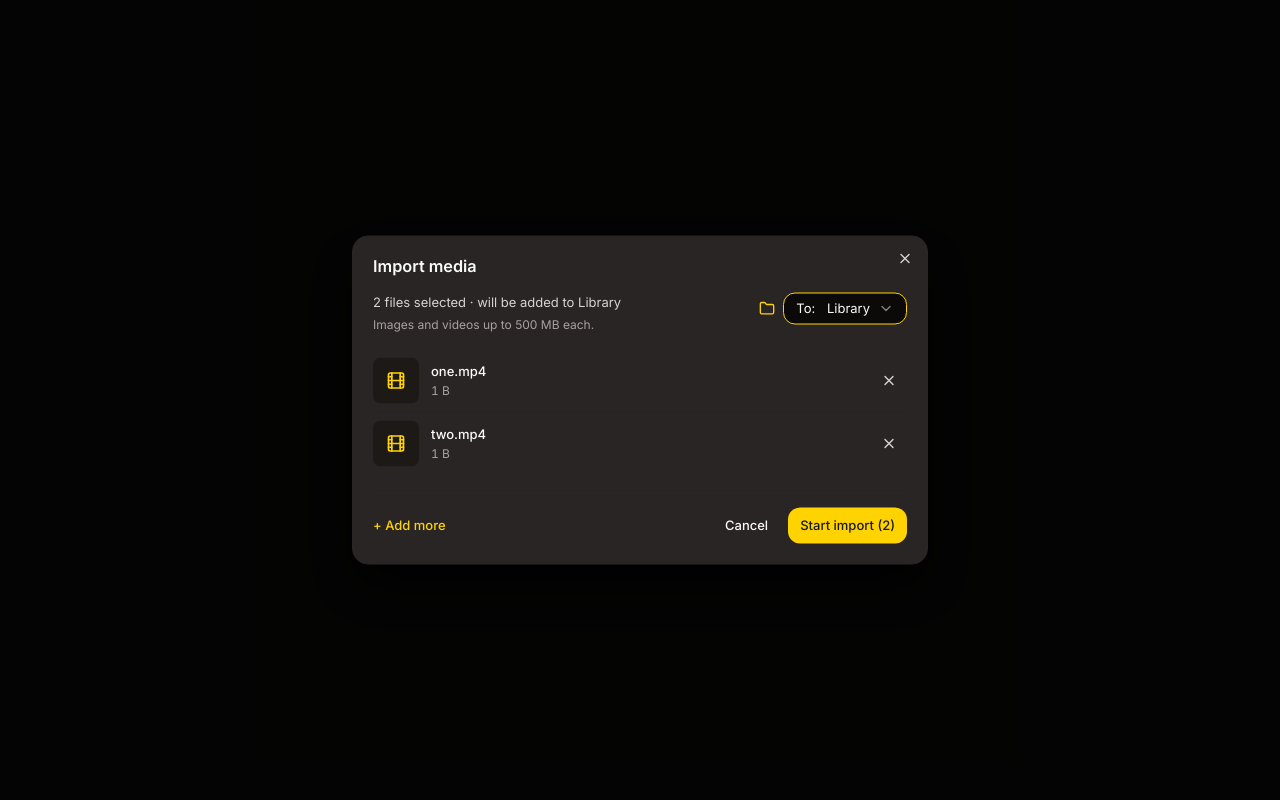
Test case: MediaImportModal — staging (Spec 072 behaviours, PB-2/PB-12) › per-row remove drops the file and updates the count
The width and height of the screenshot is (1280, 800).
Click the button named "Remove one.mp4" at (889, 380), box left=871, top=362, right=907, bottom=398
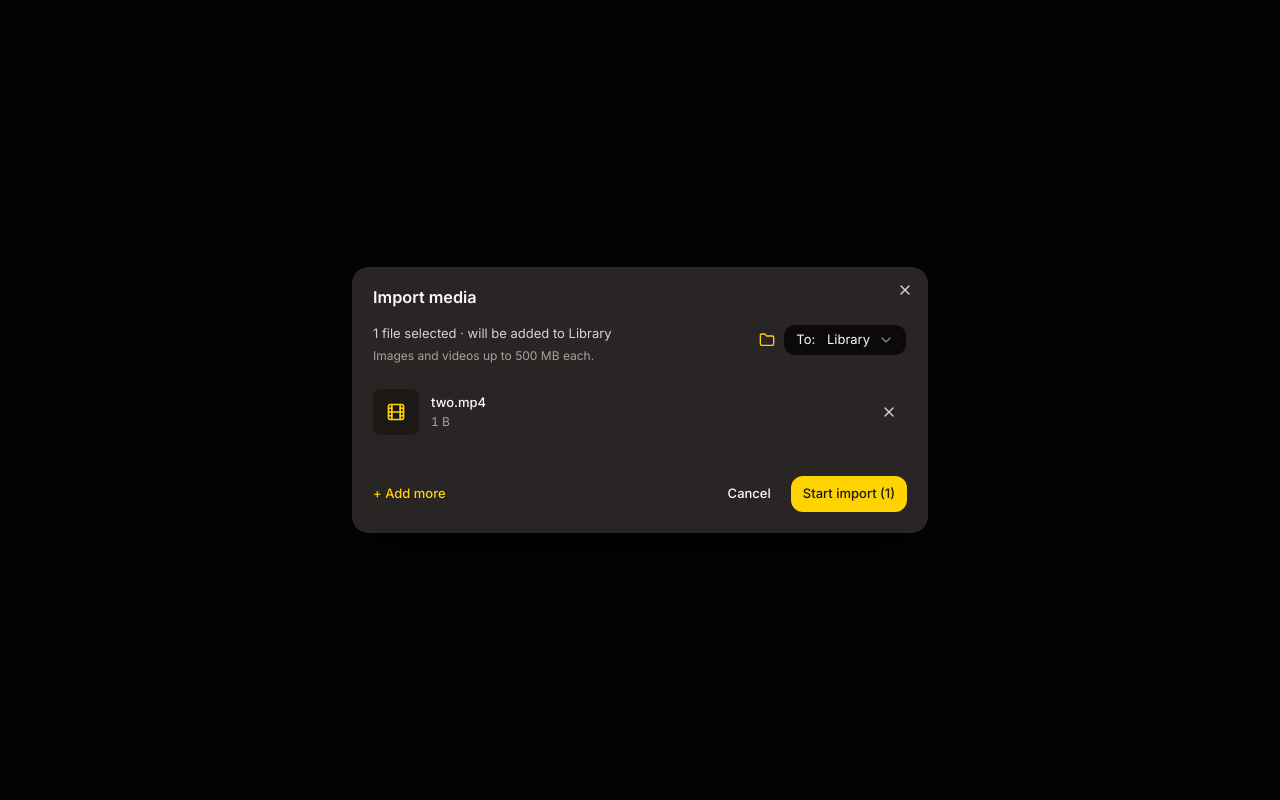
Check: the button with test id "start-import-btn" reads "Start import (1)", box left=791, top=476, right=907, bottom=512
